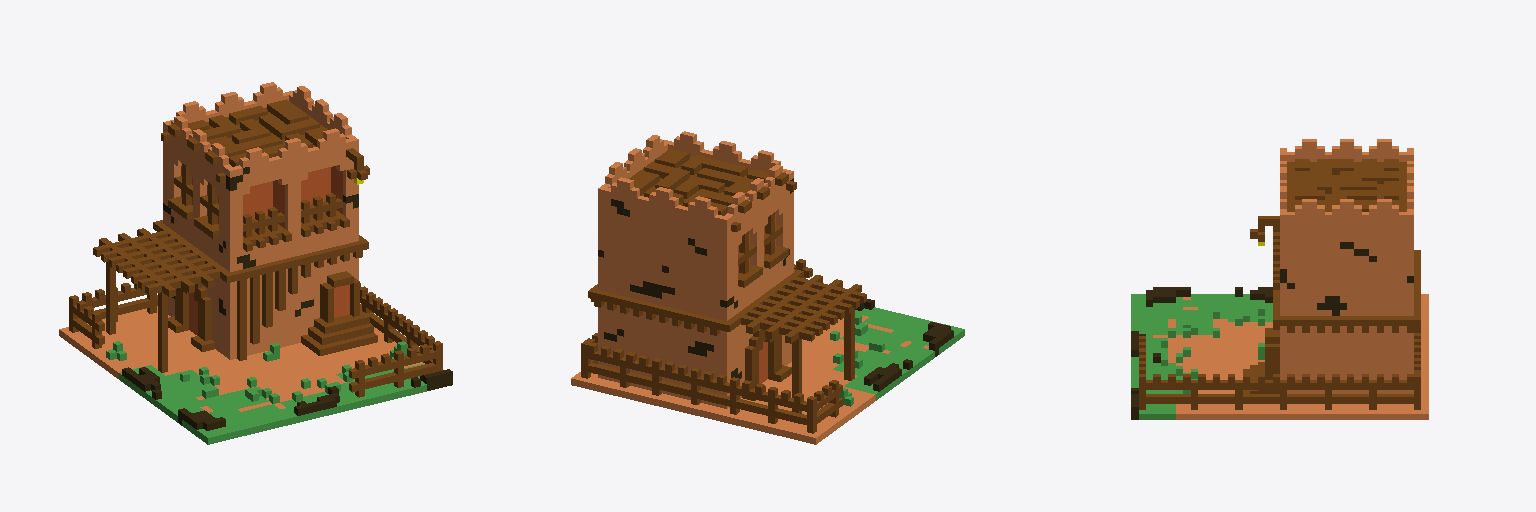
The picture shows the model from 3 angles: view 1: azimuth 30°, elevation 25°; view 2: azimuth 150°, elevation 25°; view 3: azimuth 270°, elevation 25°; orthographic projection.
Visible parts, largest first — view 1: object 1; view 2: object 1; view 3: object 1.
Boxes of the visible parts, <box> form: object 1: <box>59,82,452,444</box>; object 1: <box>571,131,964,444</box>; object 1: <box>1131,139,1428,419</box>.
Size of the model in its own units: 3.8 by 3.1 by 4.
1 materials, 1 textured.